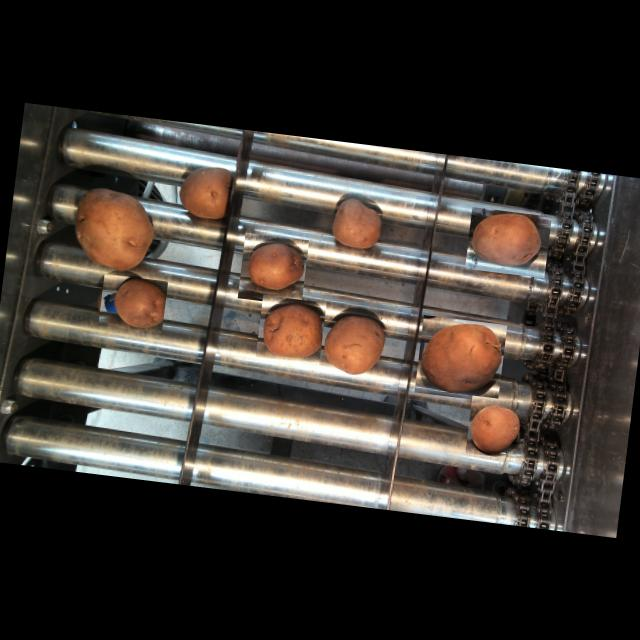Potato: (65, 182, 166, 278), (414, 314, 507, 402), (316, 297, 392, 382), (464, 207, 552, 278), (324, 190, 397, 263), (237, 232, 309, 306), (255, 295, 326, 364), (174, 153, 235, 233), (464, 395, 532, 460), (98, 274, 168, 332)
